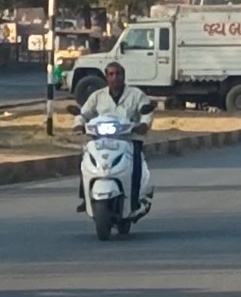BikeWithRider: (62, 57, 161, 242)
NoHelmet: (99, 58, 131, 92)
